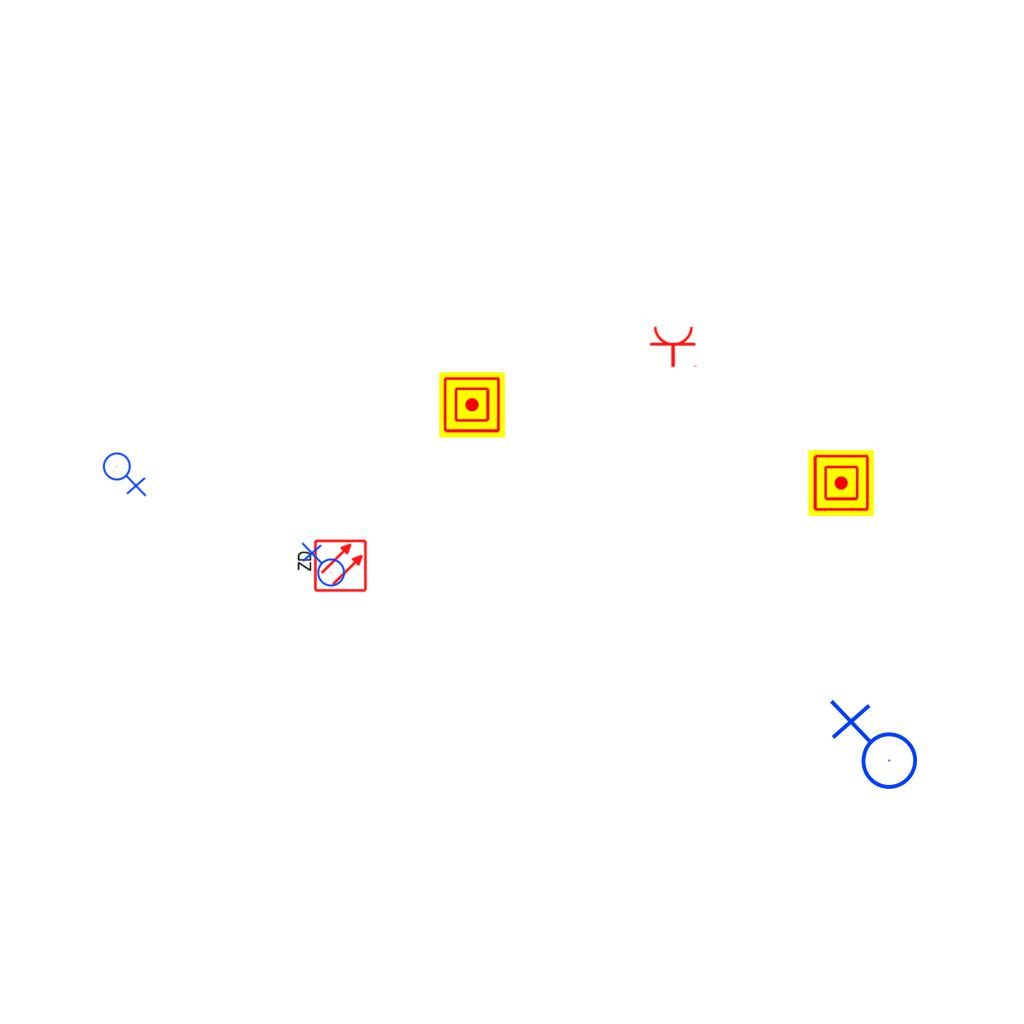Elektroanschluss_allgemein_230V_Geraeteanschlussdose_230V: (825, 699, 919, 798), (102, 448, 149, 497), (299, 542, 346, 591)
NAM-Nichtautomatischer_Melder: (439, 372, 505, 438), (808, 450, 874, 516)
Schukosteckdose_einfach: (649, 325, 699, 368)
ZD_Melder_in_Zwischendecke_mit_Revisionsoeffnung_mind_40_x_40_cm: (294, 538, 368, 595)
